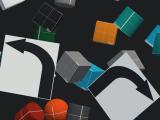Left: (0, 35, 60, 100)
Right: (87, 52, 160, 120)
